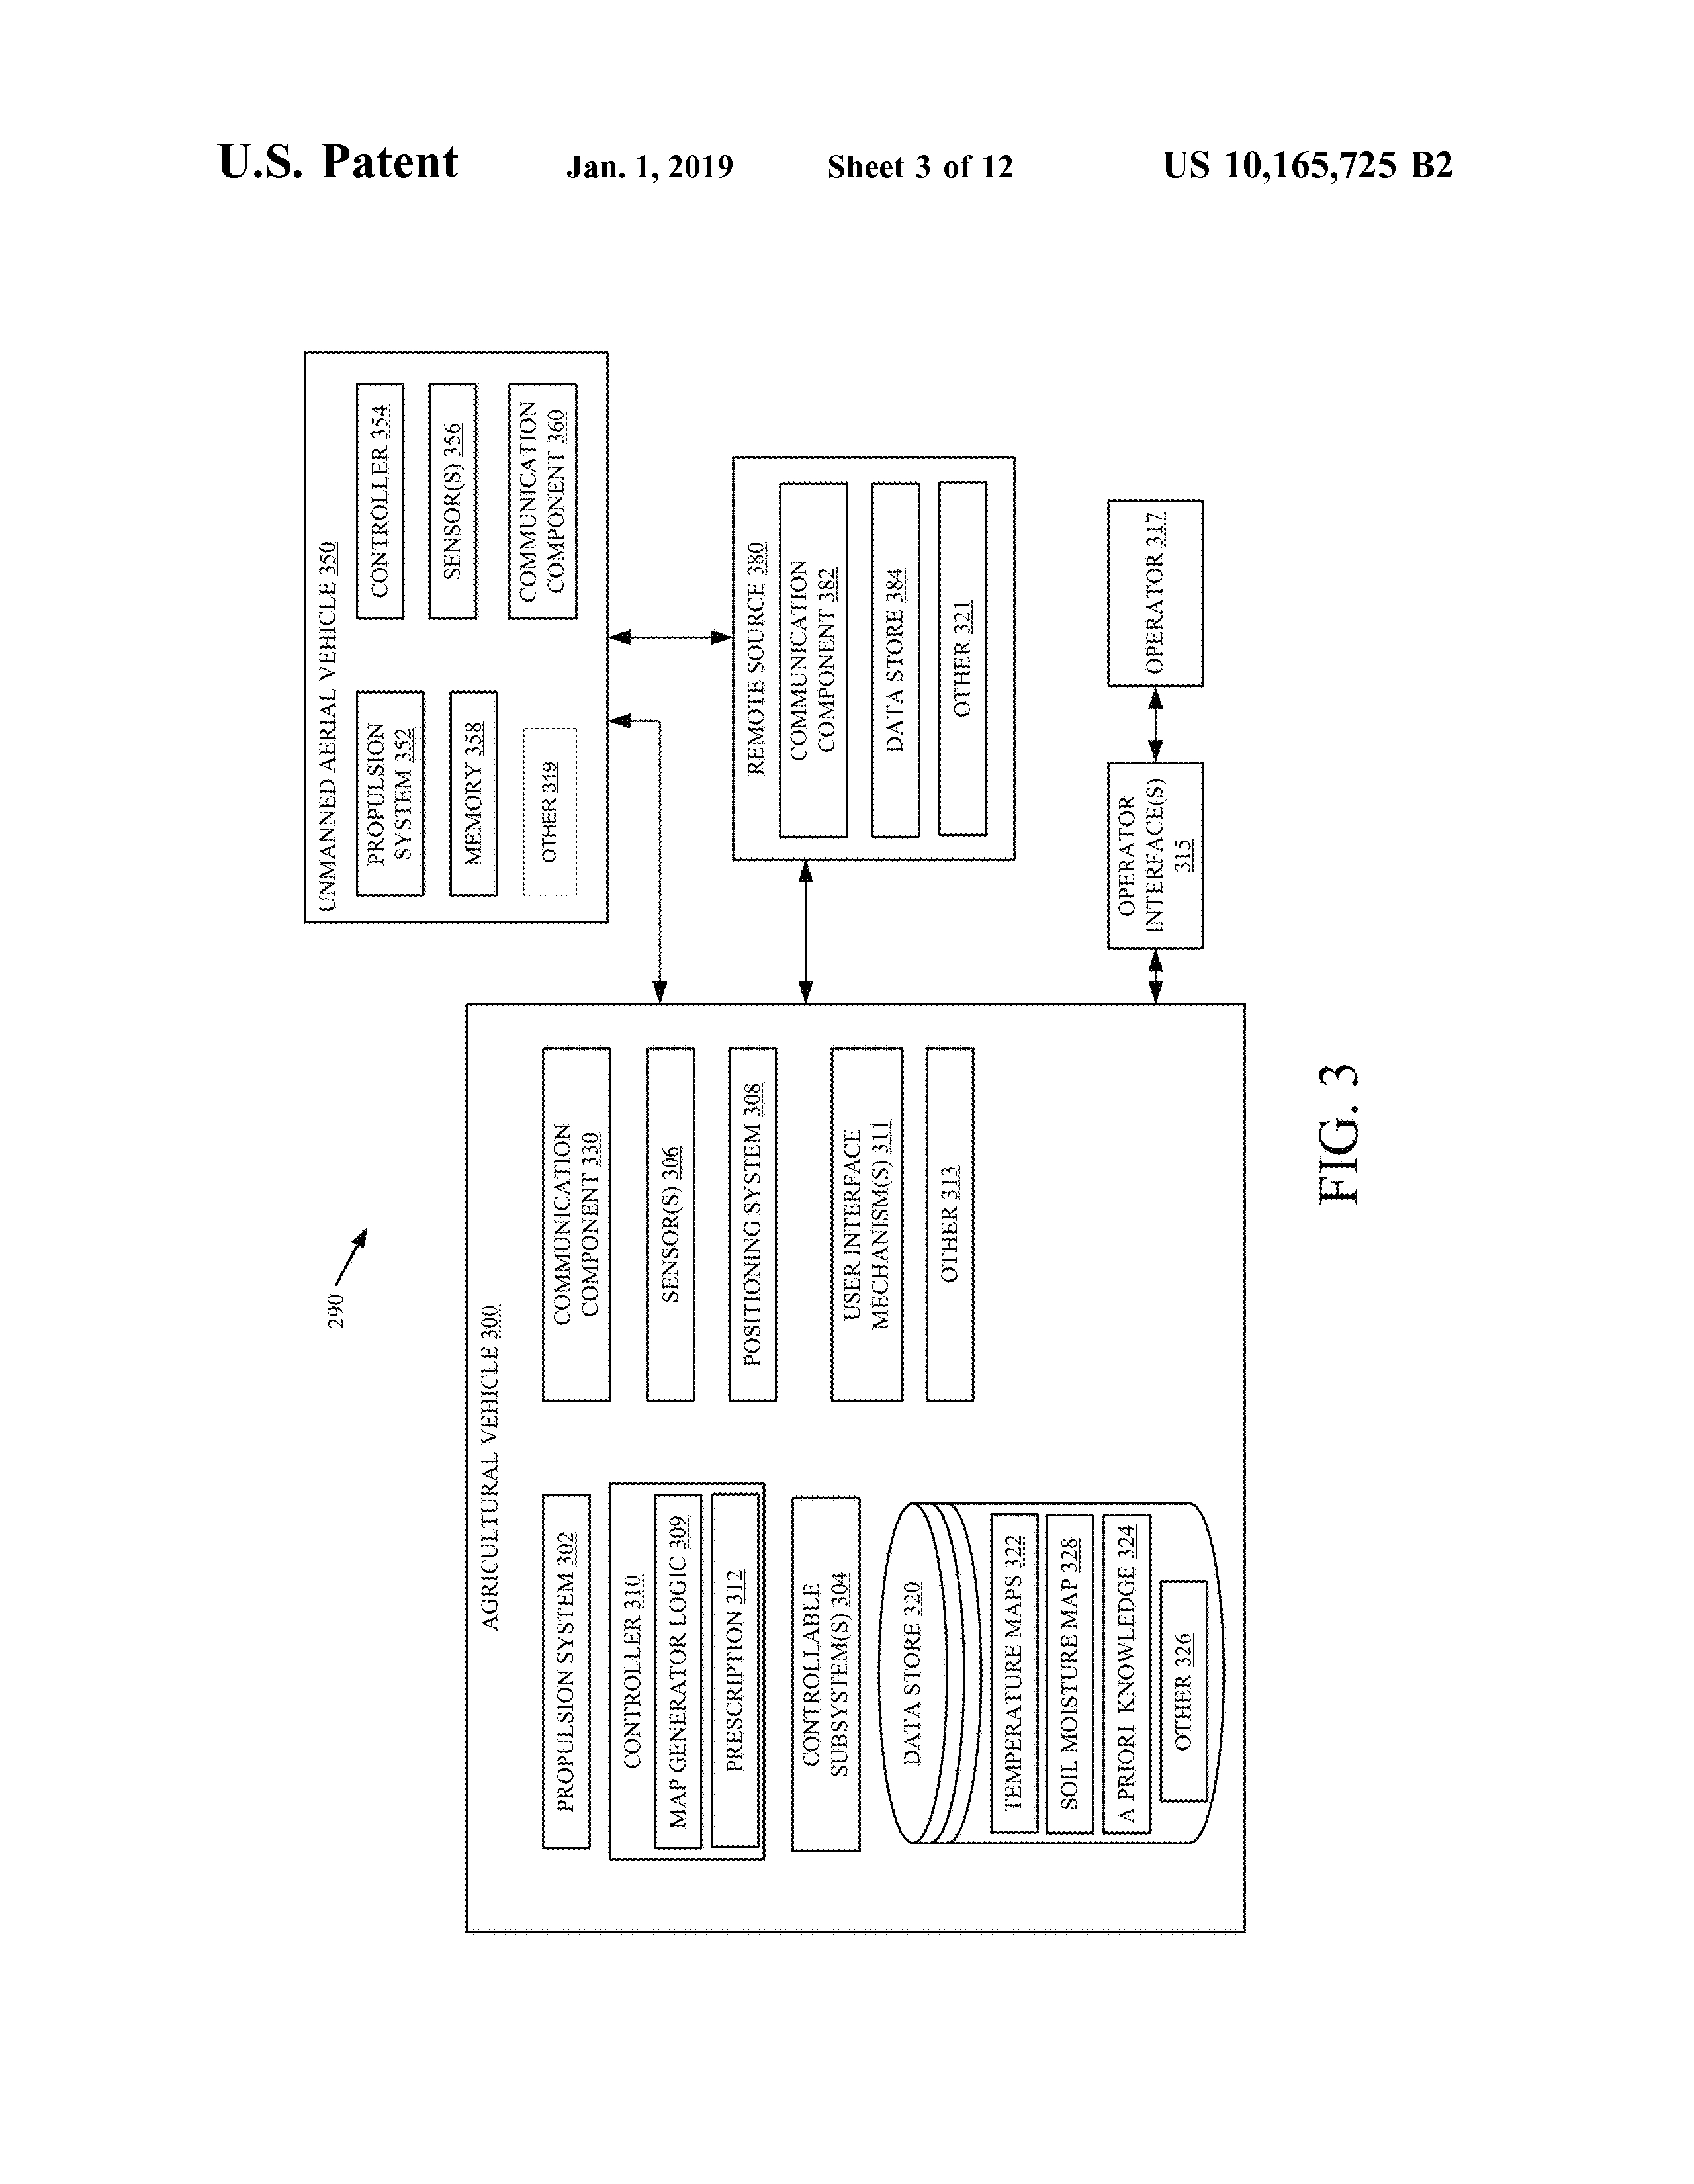patent image: (224, 314, 1404, 1997)
